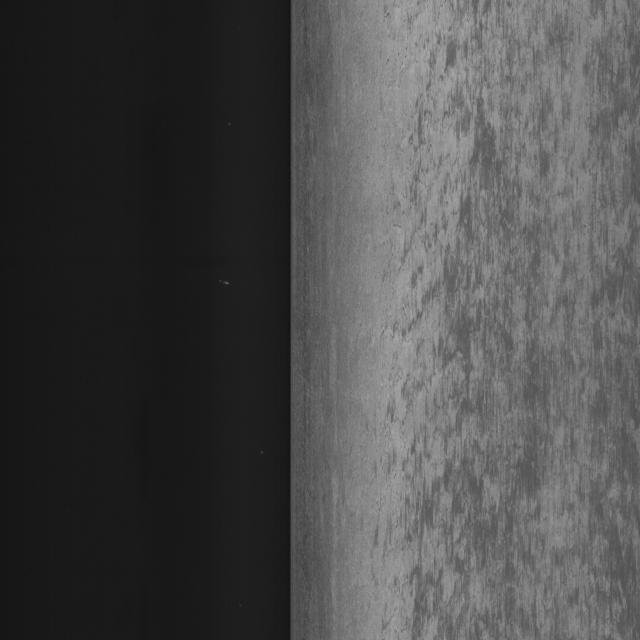inclusion: (370, 12, 640, 606)
